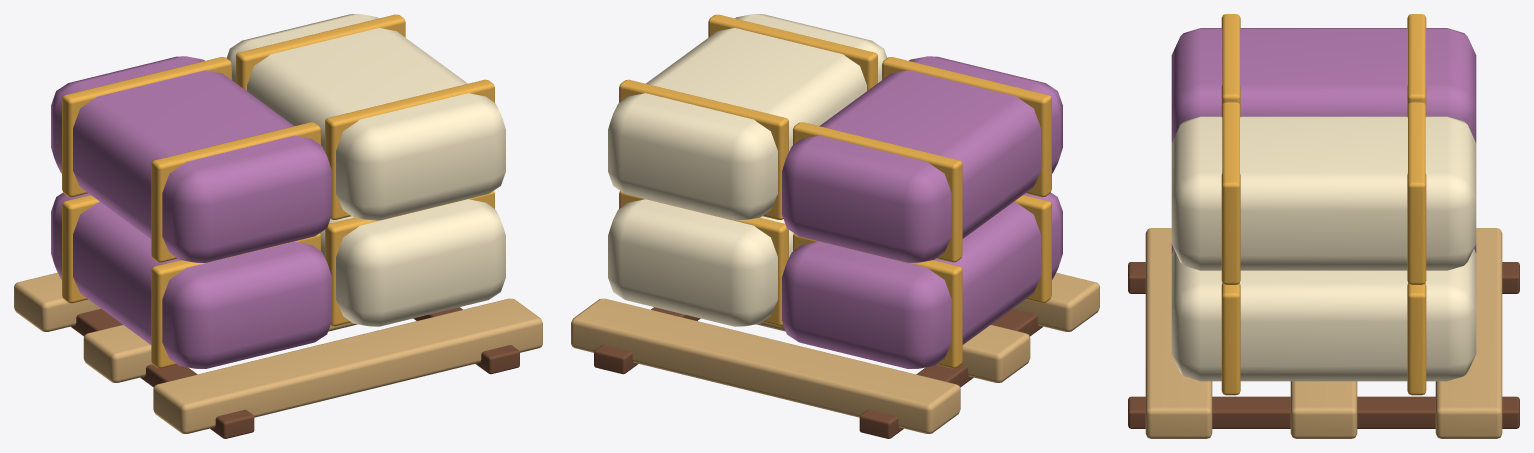
File: Cargo_Textiles.fbx
3 views of the same model, side by side, from view 1: azimuth 30°, elevation 25°; view 2: azimuth 150°, elevation 25°; view 3: azimuth 270°, elevation 25° (orthographic). The views are drawn at different scales.
Visible parts, largest first — view 1: Cargo_Textiles_Static; view 2: Cargo_Textiles_Static; view 3: Cargo_Textiles_Static.
Part boxes in pixels (<box>): Cargo_Textiles_Static: <box>14,14,542,438</box>; Cargo_Textiles_Static: <box>571,14,1099,438</box>; Cargo_Textiles_Static: <box>1128,14,1519,438</box>.
Size of the model in its own units: 1.5 by 0.975 by 1.35.
1 material, 1 textured.
